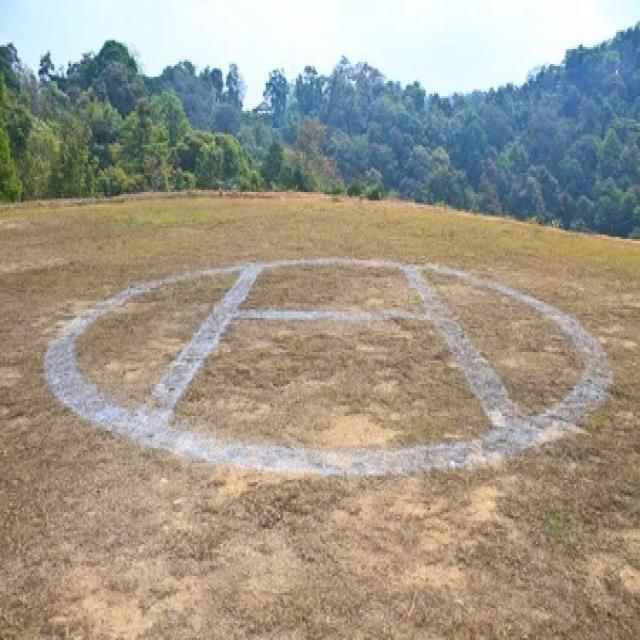helipad: (37, 243, 613, 484)
